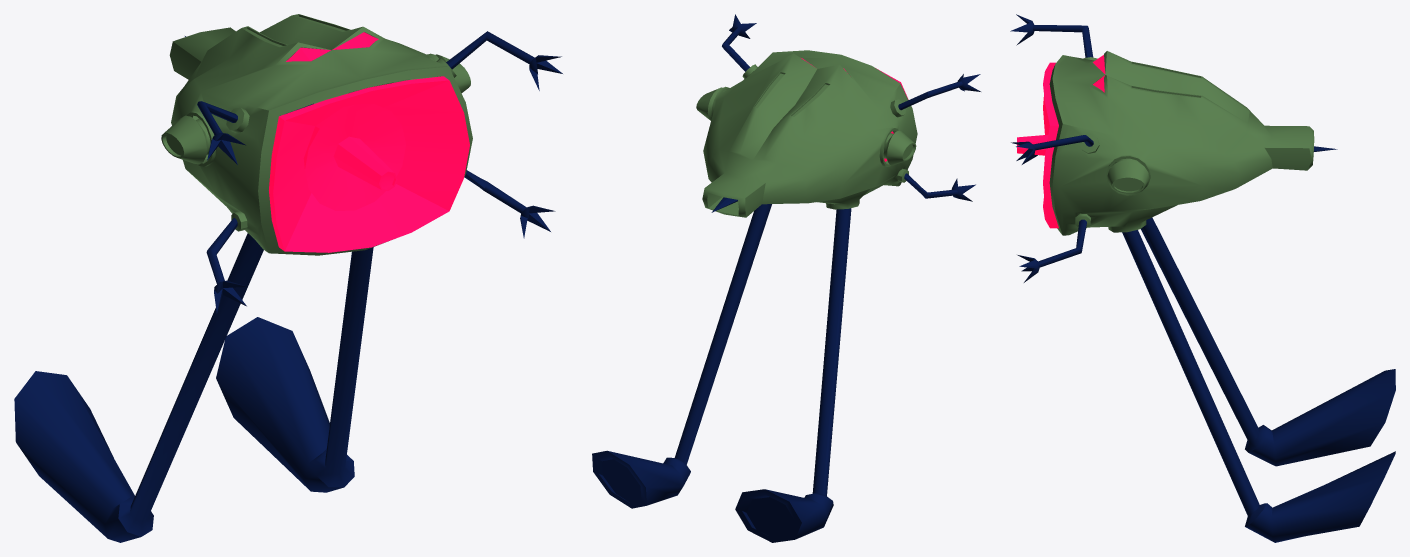
File: enemy_1_1.fbx
3 views of the same model, side by side, from view 1: azimuth 30°, elevation 25°; view 2: azimuth 150°, elevation 25°; view 3: azimuth 270°, elevation 25° (orthographic). The views are drawn at different scales.
Visible parts, largest first — view 1: legs, Shield, Enemy_body, arm_1, arm_2, Pulsator, Enemy_Eye; view 2: Enemy_body, legs, arm_1, Pulsator, arm_2; view 3: Enemy_body, legs, Shield, arm_1, Pulsator, arm_2.
Part boxes in pixels (box(x1,y1,x2,y2)): legs: box(14, 233, 373, 542); Shield: box(269, 76, 469, 252); Enemy_body: box(169, 14, 472, 255); arm_1: box(197, 31, 562, 164); arm_2: box(206, 170, 555, 313); Pulsator: box(161, 54, 470, 164); Enemy_Eye: box(286, 32, 378, 61); Enemy_body: box(702, 50, 917, 217); legs: box(592, 204, 851, 542); arm_1: box(722, 14, 980, 110); Pulsator: box(696, 87, 916, 165); arm_2: box(904, 173, 975, 201); Enemy_body: box(1049, 51, 1314, 235); legs: box(1122, 217, 1395, 542); Shield: box(1017, 62, 1058, 228); arm_1: box(1010, 14, 1093, 164); Pulsator: box(1107, 158, 1149, 195); arm_2: box(1016, 147, 1086, 282).
Size of the model in its own units: 5.24 by 7.9 by 6.27.
